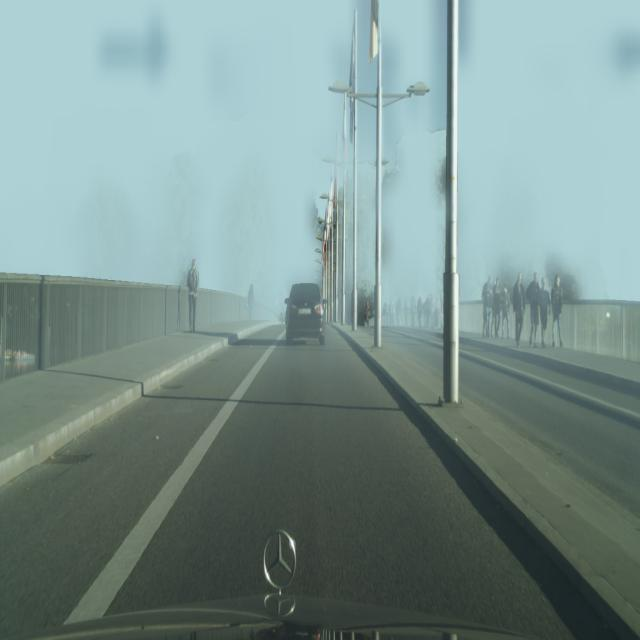bus: (527, 271, 541, 348), (512, 272, 525, 346), (187, 258, 199, 332), (551, 274, 563, 348), (538, 277, 550, 347), (492, 276, 502, 339), (482, 275, 492, 338), (501, 281, 511, 339), (247, 282, 254, 320), (364, 301, 371, 326)
person: (285, 282, 325, 346)
